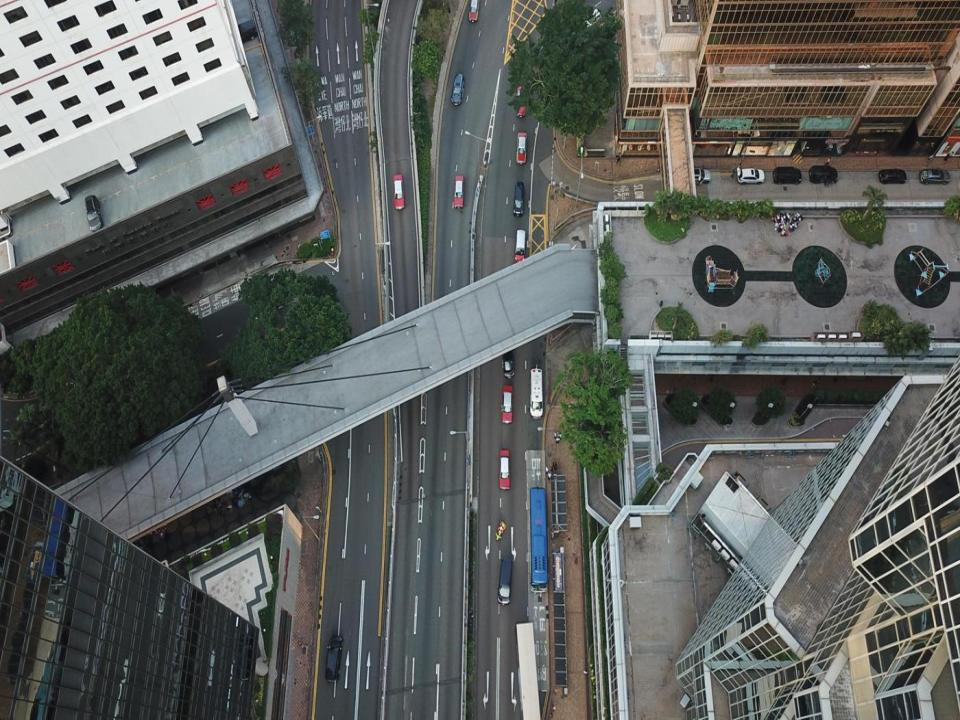bus: (530, 488, 547, 594)
car: (497, 555, 512, 605), (326, 635, 342, 681), (84, 194, 102, 231), (920, 166, 952, 186), (808, 165, 839, 184), (772, 166, 802, 185), (739, 166, 765, 186), (879, 166, 907, 184), (453, 174, 466, 211), (498, 448, 509, 490), (689, 166, 712, 185), (393, 171, 404, 210), (517, 132, 527, 162), (504, 387, 512, 423), (467, 2, 479, 23)
van: (530, 366, 546, 417), (450, 71, 464, 108), (501, 336, 512, 381), (513, 177, 524, 217), (514, 228, 525, 268)
